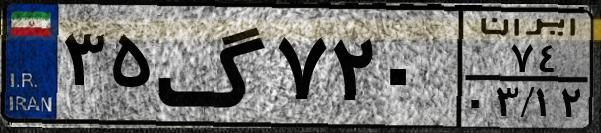0: (385, 28, 445, 110), (470, 70, 495, 125)
1: (535, 70, 560, 125)
2: (330, 28, 385, 110), (560, 70, 590, 125)
3: (57, 26, 110, 100), (495, 70, 520, 125)
4: (537, 27, 568, 80)
5: (110, 28, 156, 98)
7: (270, 28, 330, 110), (508, 27, 537, 80)
گ: (156, 12, 270, 120)
